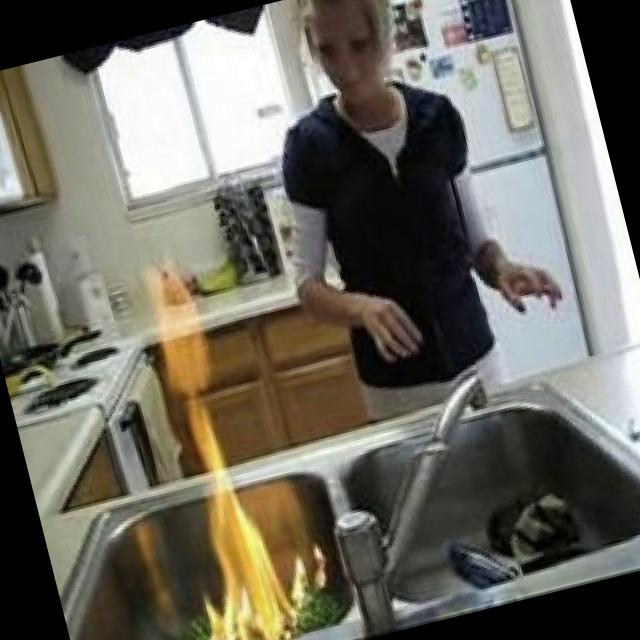fire: (119, 258, 303, 640), (276, 534, 340, 608)
